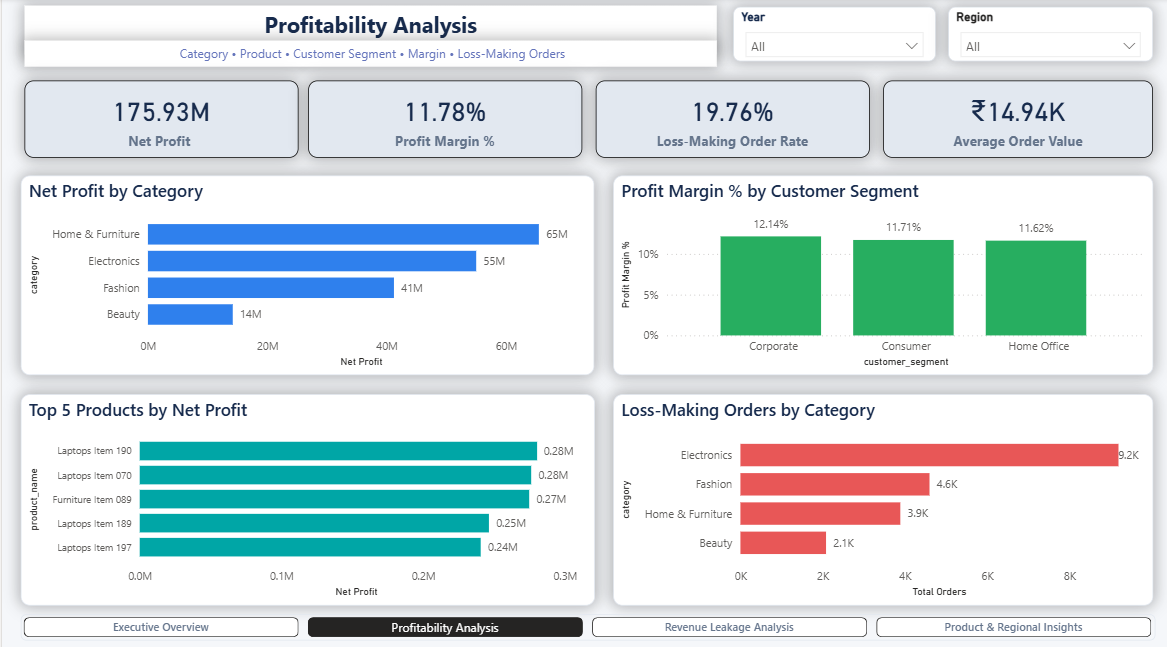

This screenshot's page, from the dashboard's own definition file:
{"tool":"powerbi","page":{"name":"Profitability Analysis","canvas":[1280,720],"ordinal":1},"visuals":[{"type":"textbox","box":[24.7,8.2,760.2,53.5],"z":0},{"type":"textbox","box":[24.7,46.7,760.2,28.8],"z":1000},{"type":"slicer","title":"Year","fields":{"Values":["DateTable.Year"]},"box":[802.7,9.6,222.3,60.4],"z":2000},{"type":"slicer","title":"Region","fields":{"Values":["public ecommerce_transactions.region"]},"box":[1038.8,9.6,225,60.4],"z":3000},{"type":"card","fields":{"Values":["Sum(public ecommerce_transactions.net_profit)"]},"box":[24.7,90.6,300.5,85.1],"z":4000},{"type":"card","fields":{"Values":["public ecommerce_transactions.Profit Margin %"]},"box":[336.2,90.6,300.5,85.1],"z":5000},{"type":"card","fields":{"Values":["public ecommerce_transactions.Loss-Making Order Rate"]},"box":[651.8,90.6,300.5,85.1],"z":6000},{"type":"card","fields":{"Values":["public ecommerce_transactions.Average Order Value"]},"box":[967.4,90.6,296.4,85.1],"z":7000},{"type":"clusteredBarChart","title":"Net Profit by Category","fields":{"Category":["public ecommerce_transactions.category"],"Y":["public ecommerce_transactions.Net Profit"]},"box":[20.6,194.9,629.8,219.6],"z":8000},{"type":"clusteredColumnChart","title":"Profit Margin % by Customer Segment","fields":{"Category":["public ecommerce_transactions.customer_segment"],"Y":["public ecommerce_transactions.Profit Margin %"]},"box":[671,194.9,592.8,219.6],"z":9000},{"type":"clusteredBarChart","title":"Top 5 Products by Net Profit","fields":{"Category":["public ecommerce_transactions.product_name"],"Y":["public ecommerce_transactions.Net Profit"]},"box":[20,434.7,630,232.3],"z":10000},{"type":"clusteredBarChart","title":"Loss-Making Orders by Category","fields":{"Category":["public ecommerce_transactions.category"],"Y":["public ecommerce_transactions.Total Orders"]},"box":[671.4,434.7,593,232.3],"z":11000},{"type":"pageNavigator","box":[20,677.1,1245.8,28.5],"z":12000}]}

Visuals, with their boxes in screenshot pixels (x1, y1, x2, y2), scaled from the page's 1280x720 canvas onto the 1167x647 screenshot:
textbox: 23/7/716/55
textbox: 23/42/716/68
"Year" slicer: 732/9/935/63
"Region" slicer: 947/9/1152/63
card - Sum(public ecommerce_transactions.net_profit): 23/81/296/158
card - public ecommerce_transactions.Profit Margin %: 307/81/580/158
card - public ecommerce_transactions.Loss-Making Order Rate: 594/81/868/158
card - public ecommerce_transactions.Average Order Value: 882/81/1152/158
"Net Profit by Category" clusteredBarChart: 19/175/593/372
"Profit Margin % by Customer Segment" clusteredColumnChart: 612/175/1152/372
"Top 5 Products by Net Profit" clusteredBarChart: 18/391/593/599
"Loss-Making Orders by Category" clusteredBarChart: 612/391/1153/599
pageNavigator: 18/608/1154/634
